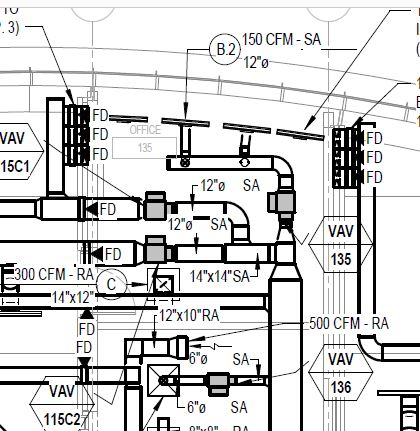VAV: (128, 227, 186, 277), (132, 177, 177, 233), (255, 186, 300, 233), (202, 358, 243, 397)
